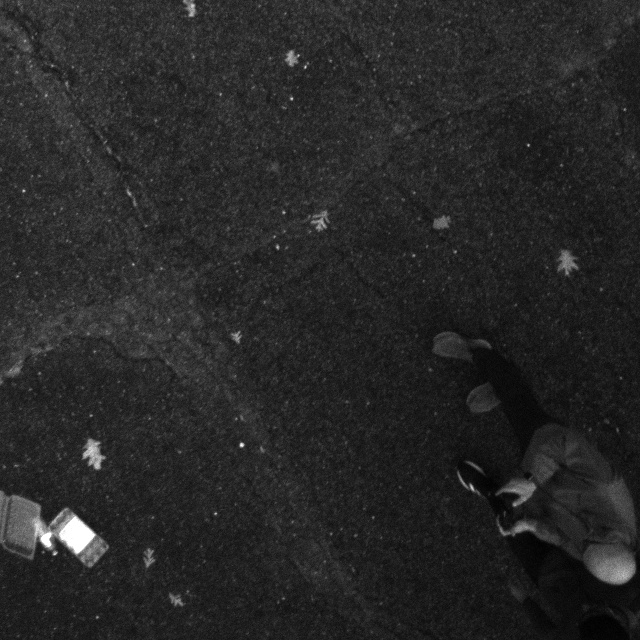bottle: (34, 515, 58, 552)
container: (58, 505, 107, 567)
